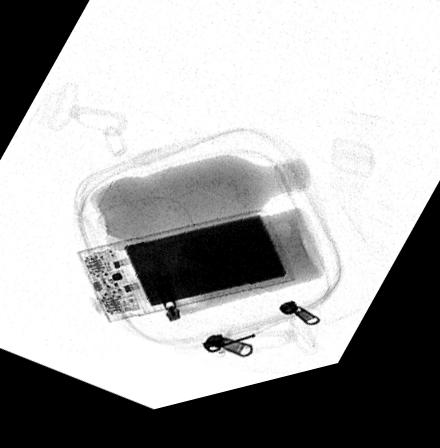Powerbank: (74, 224, 292, 327)
